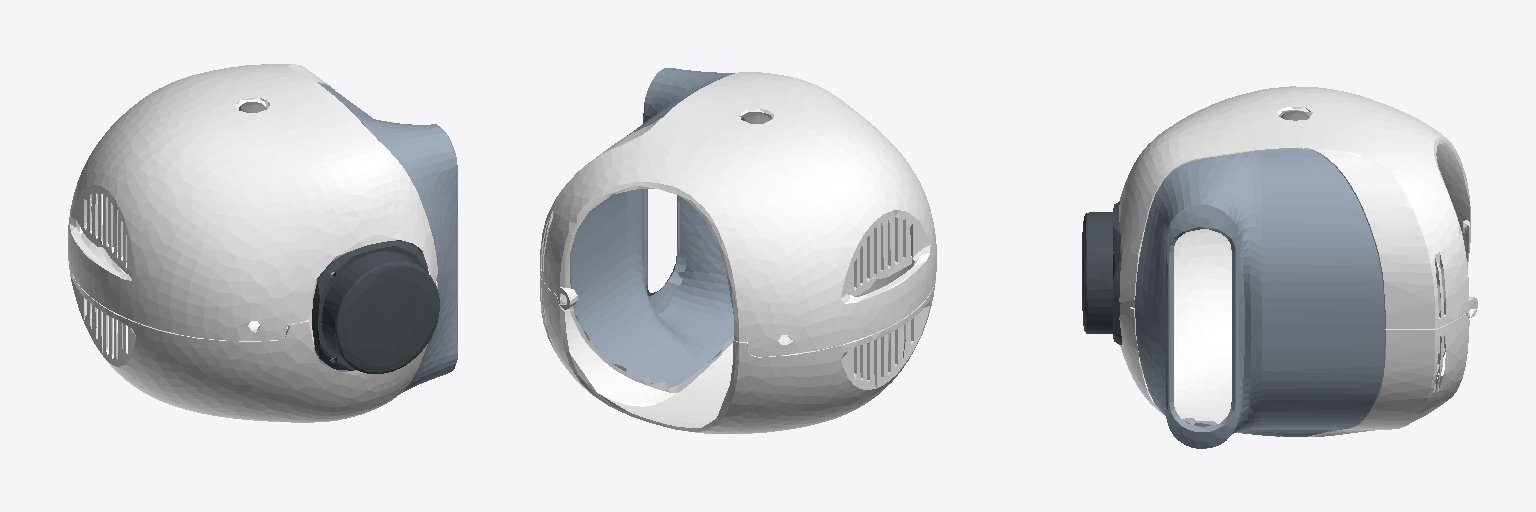
File: sim_ecub_head.obj
The picture shows the model from 3 angles: view 1: azimuth 30°, elevation 25°; view 2: azimuth 150°, elevation 25°; view 3: azimuth 270°, elevation 25°; orthographic projection.
Bounding box in the file's own units: 199 × 182 × 226.